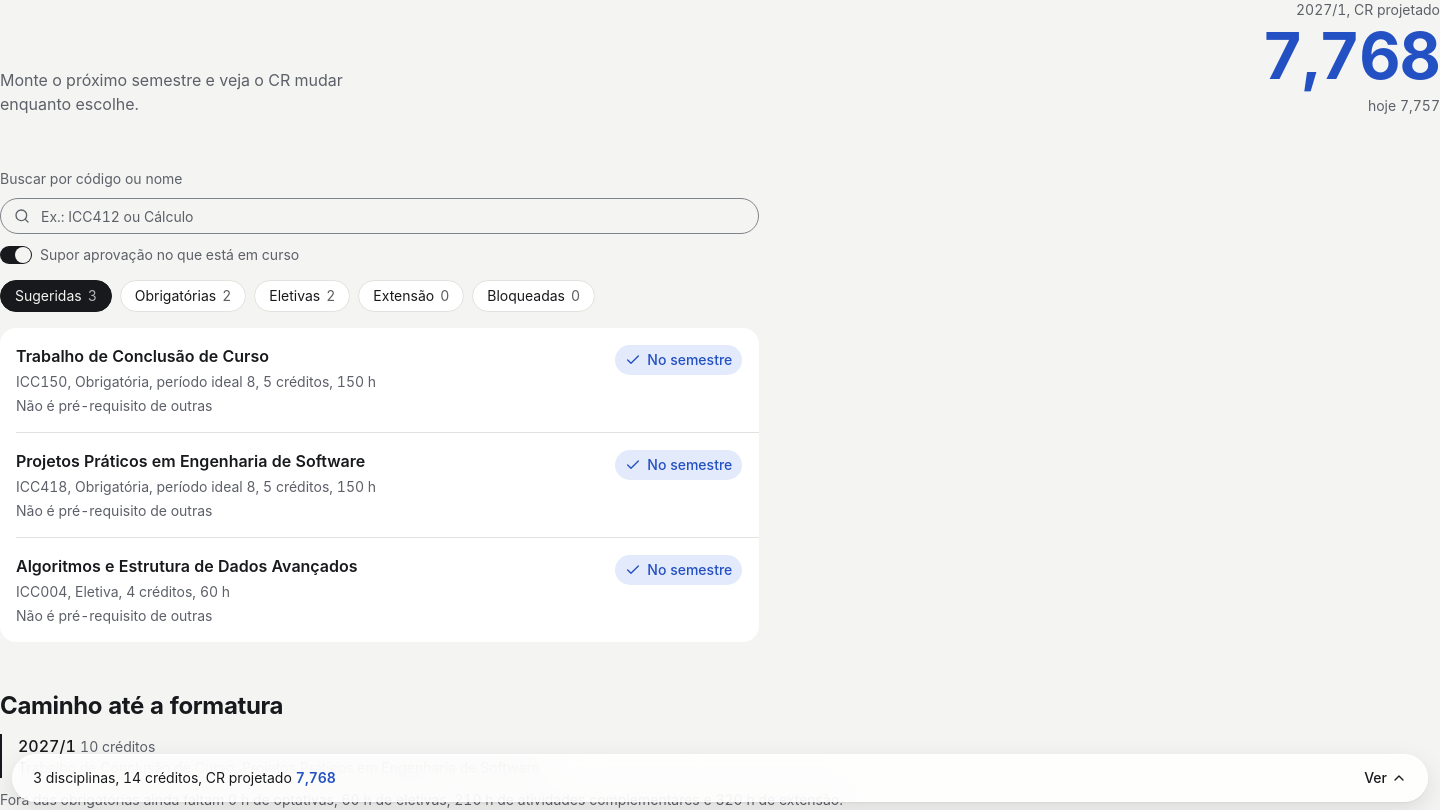
Test: PlanningScreen › closes from the header button, with a 44 px target, and returns focus to the capsule
Click the button "3 disciplinas, 14 créditos, CR projetado 7,768 Ver" at (116, 778), box [12,754,1428,802]
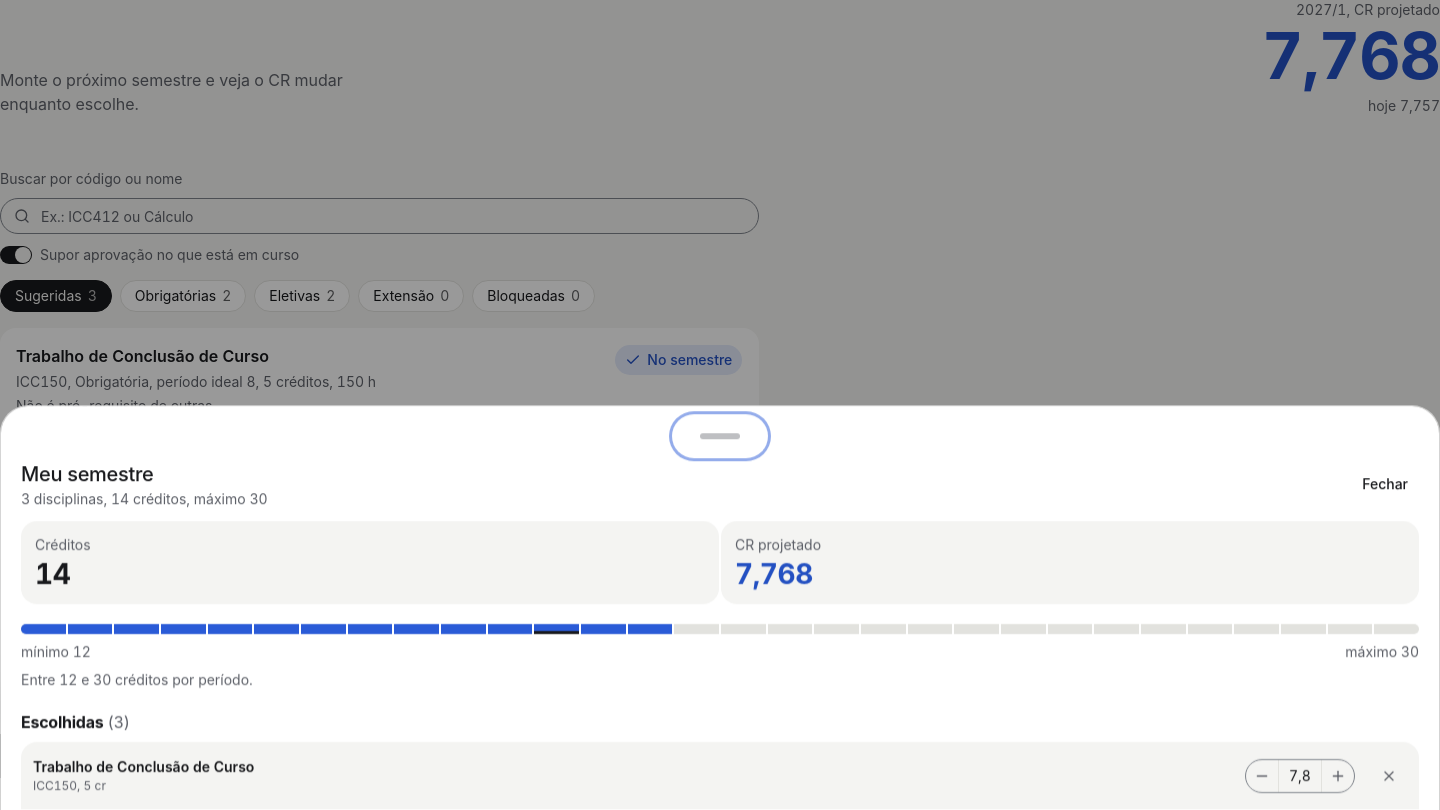
expect the element "Fechar" is shown: met, box [1,406,1439,521]
Click the button "Fechar" at (1385, 484), box [1351,462,1419,506]
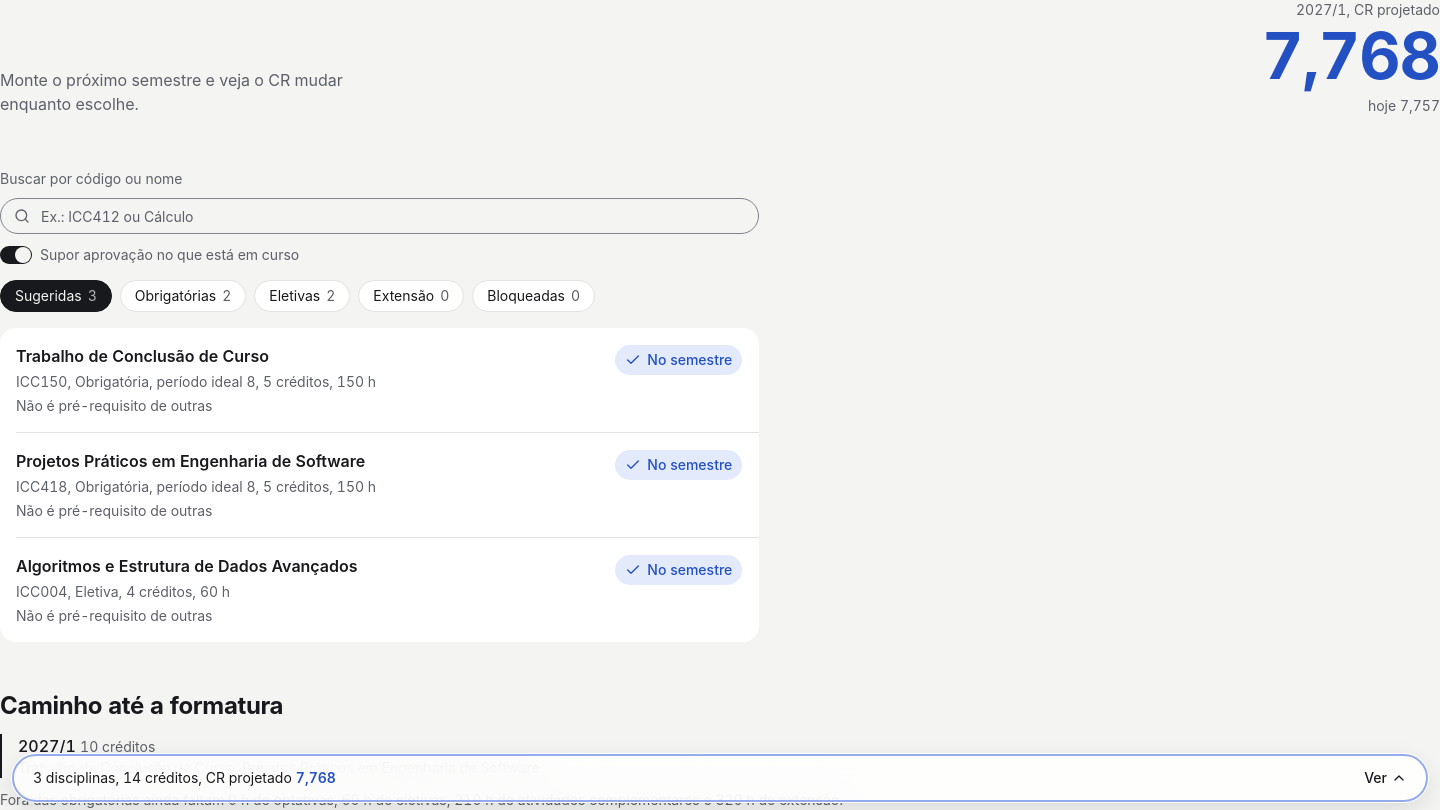
expect the heading "Meu semestre" is gone: met
